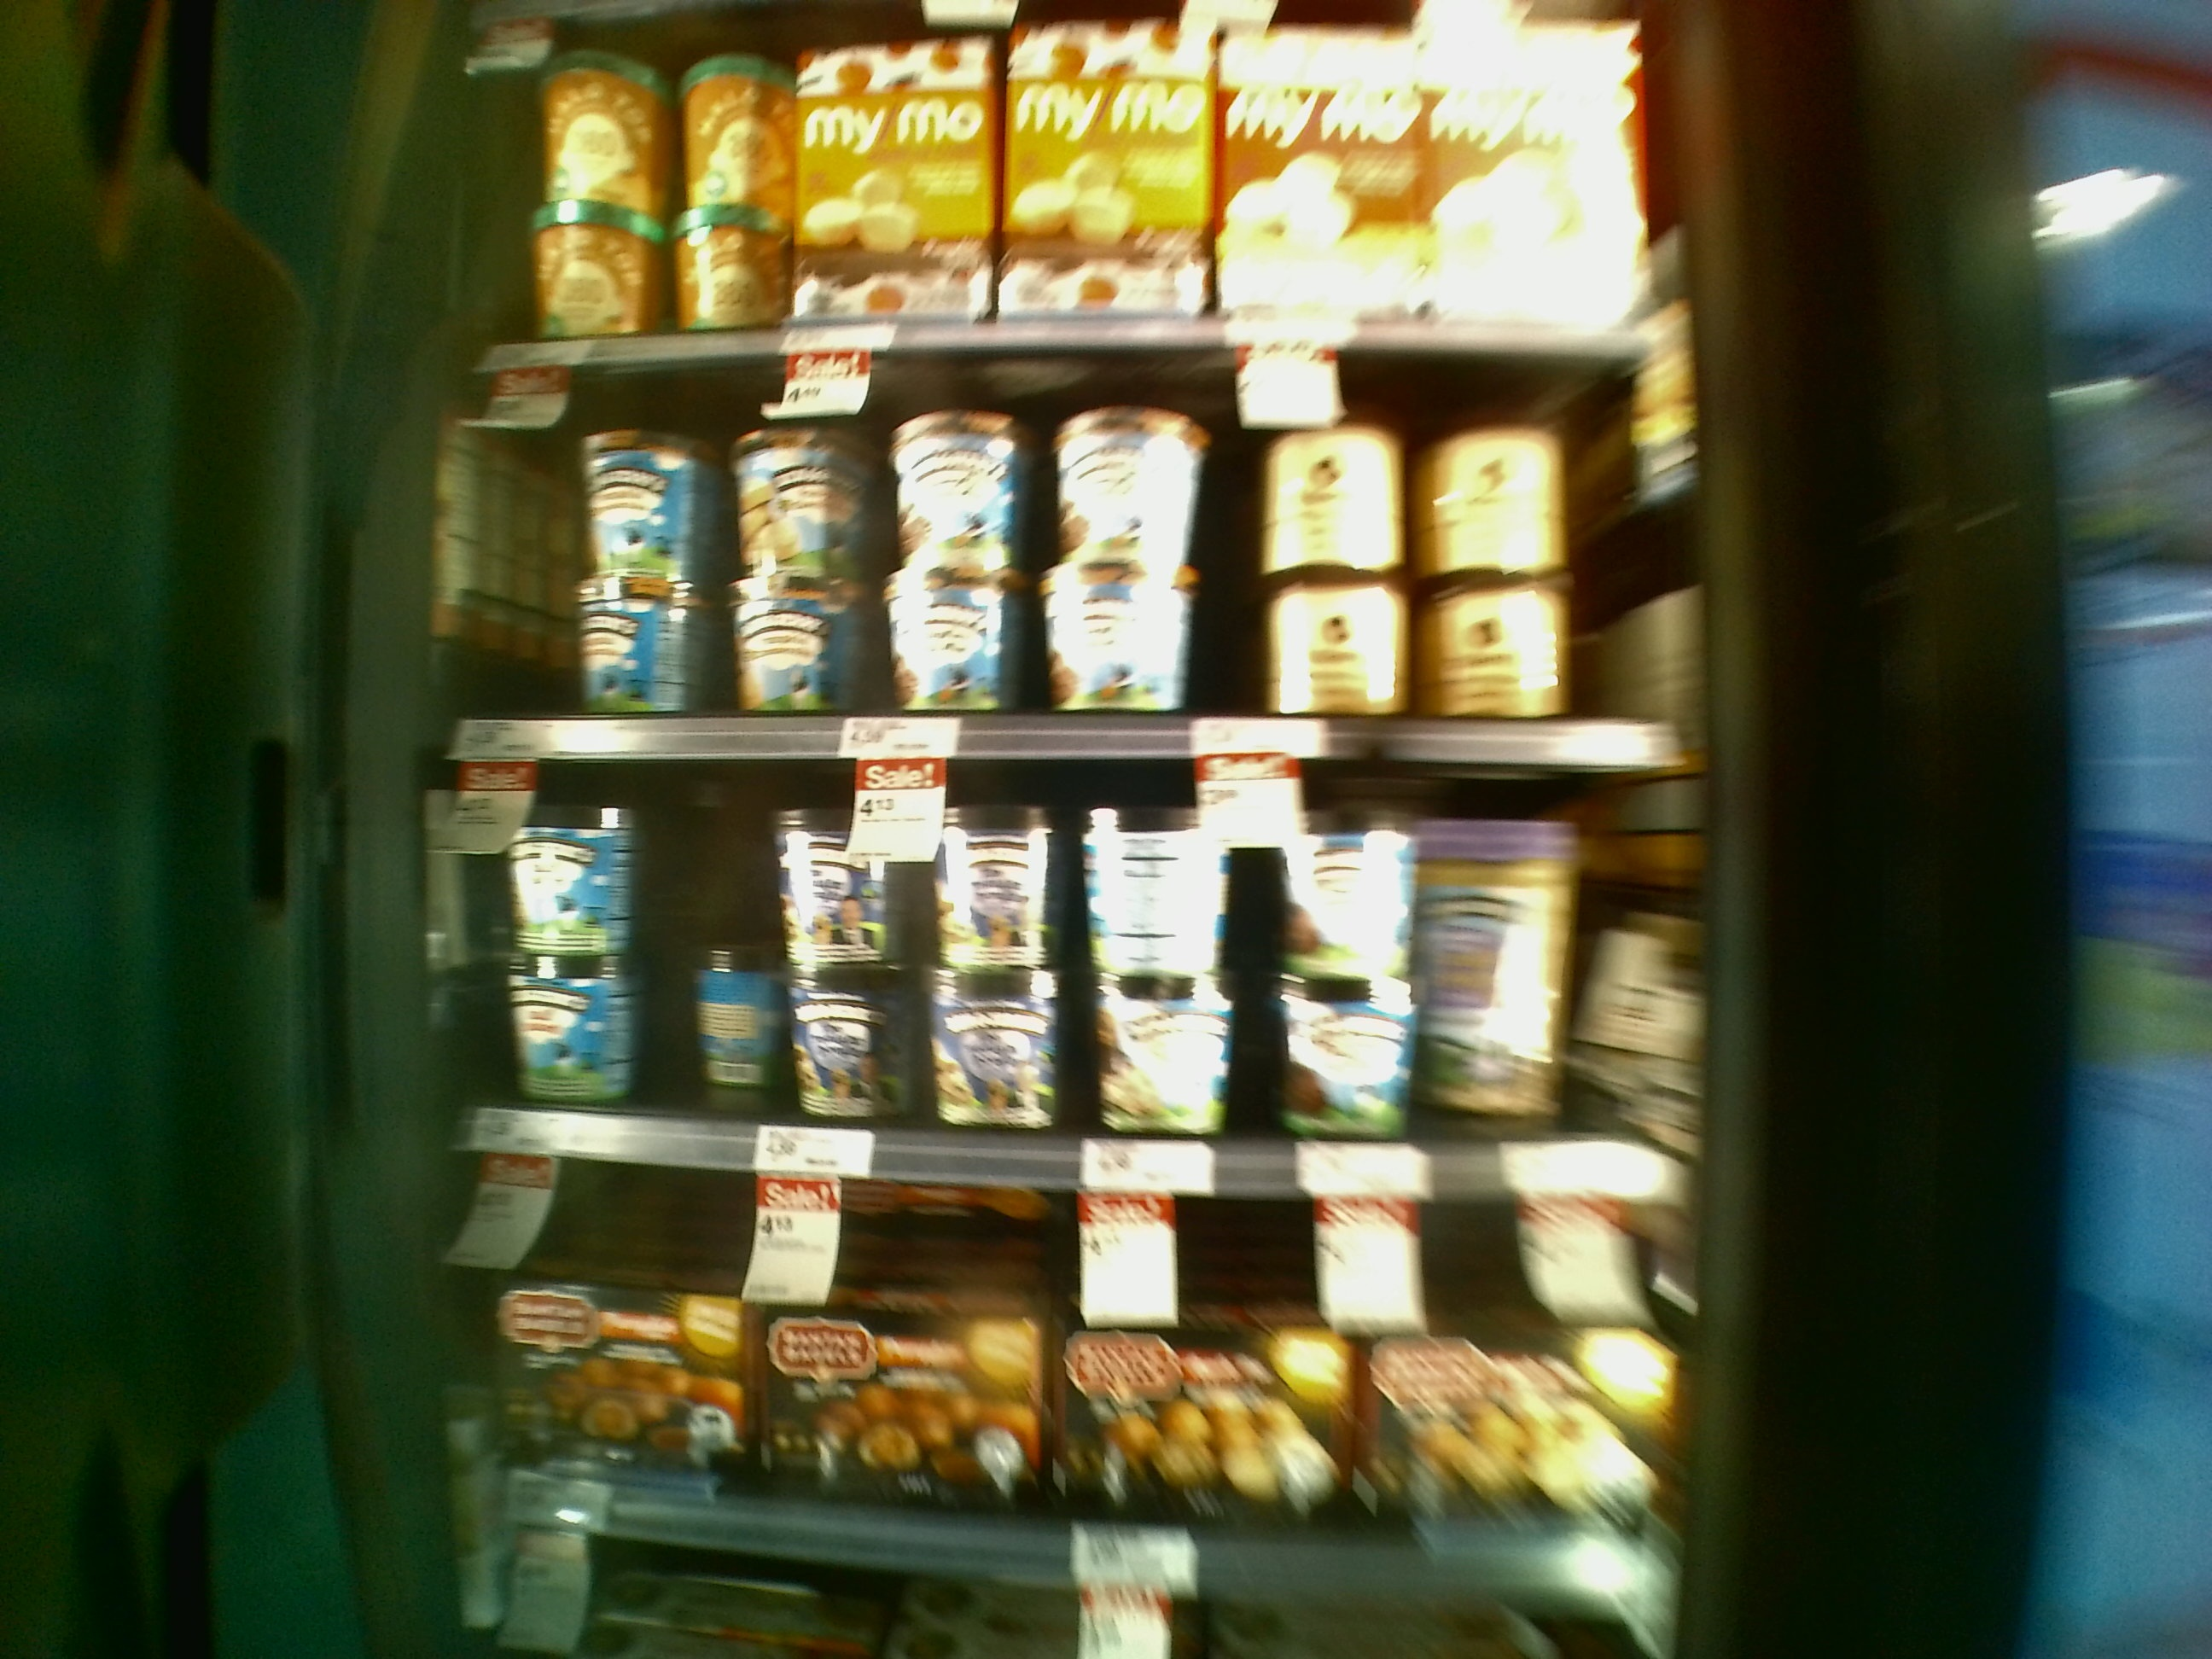shelf: (409, 1133, 1669, 1601), (409, 746, 1688, 1197), (413, 349, 1693, 769)
